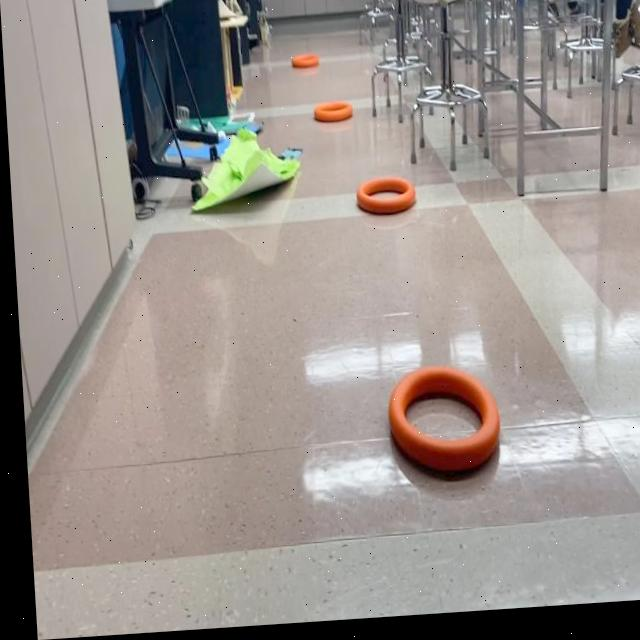note: (380, 364, 498, 486), (352, 177, 416, 225), (311, 101, 354, 132), (289, 54, 319, 76)
